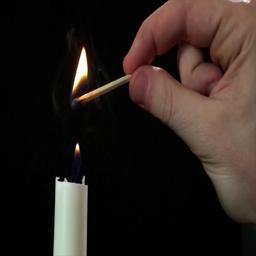fire: (73, 47, 88, 96), (75, 142, 80, 155)
